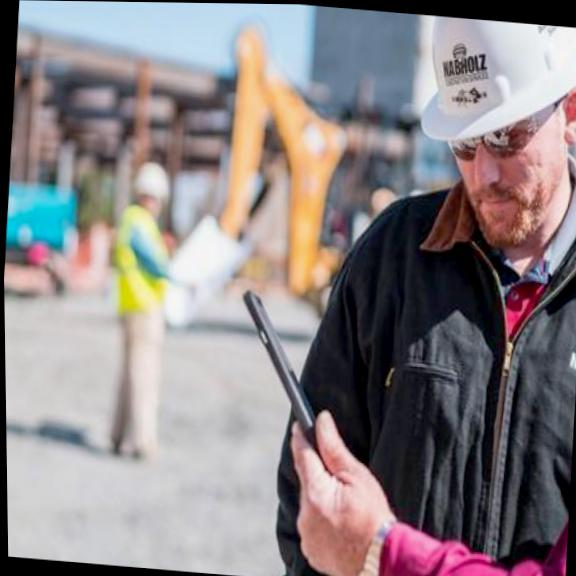no_safety_vest: (303, 185, 576, 527)
